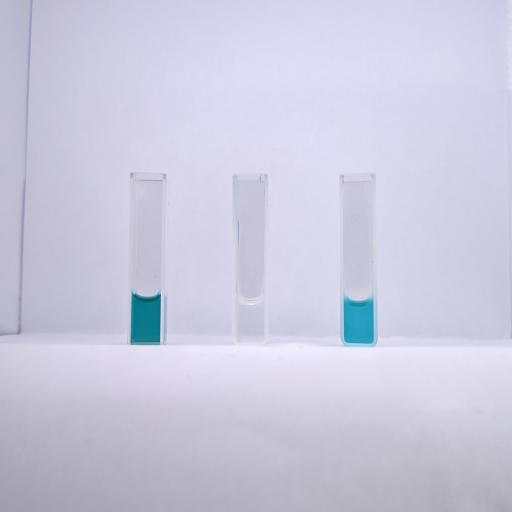cuvette: (338, 171, 379, 348), (126, 171, 167, 345), (231, 171, 270, 347)
liquid: (132, 294, 161, 342), (344, 298, 374, 342), (237, 298, 264, 342)
